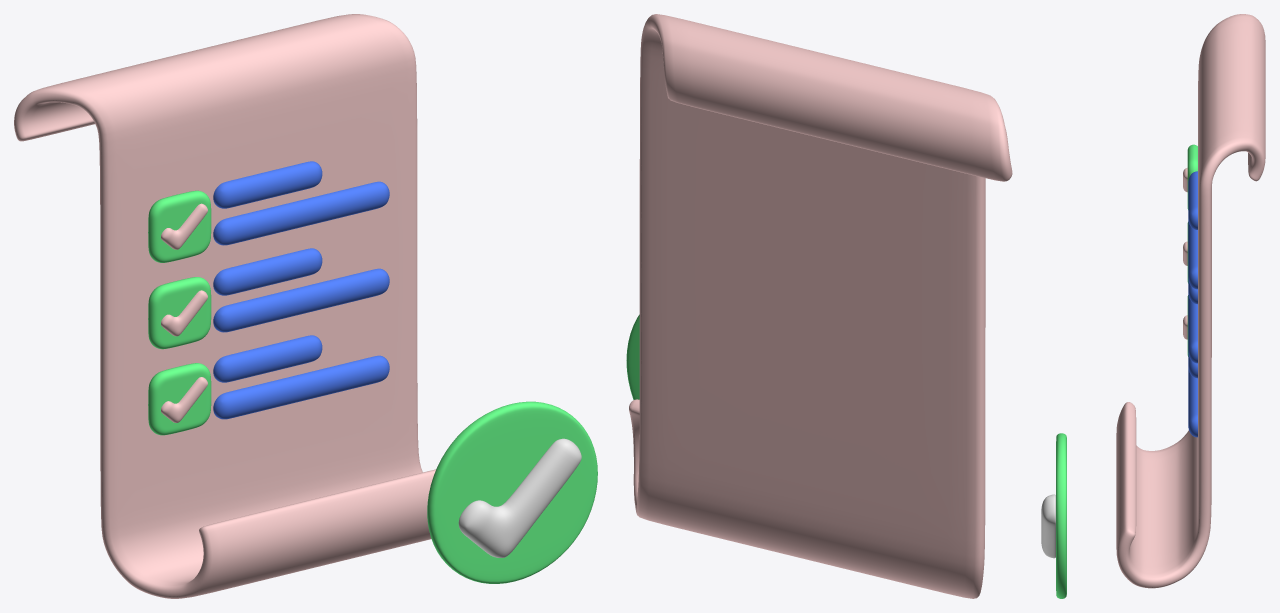
3 renders of one model, left to right at view 1: azimuth 30°, elevation 25°; view 2: azimuth 150°, elevation 25°; view 3: azimuth 270°, elevation 25°, orthographic. The views are drawn at different scales.
Parts seen in each view (by area): view 1: checklist 2, Check_Smooth 1; view 2: checklist 2, Check_Smooth 1; view 3: checklist 2, Check_Smooth 1.
Boxes of the visible parts, x1,y1,x2,y2 form: checklist 2: [14, 14, 435, 598]; Check_Smooth 1: [427, 401, 597, 583]; checklist 2: [629, 14, 1012, 598]; Check_Smooth 1: [626, 314, 639, 399]; checklist 2: [1116, 14, 1265, 588]; Check_Smooth 1: [1041, 433, 1066, 598].
Size of the model in its own units: 3.09 by 3.2 by 1.52.
